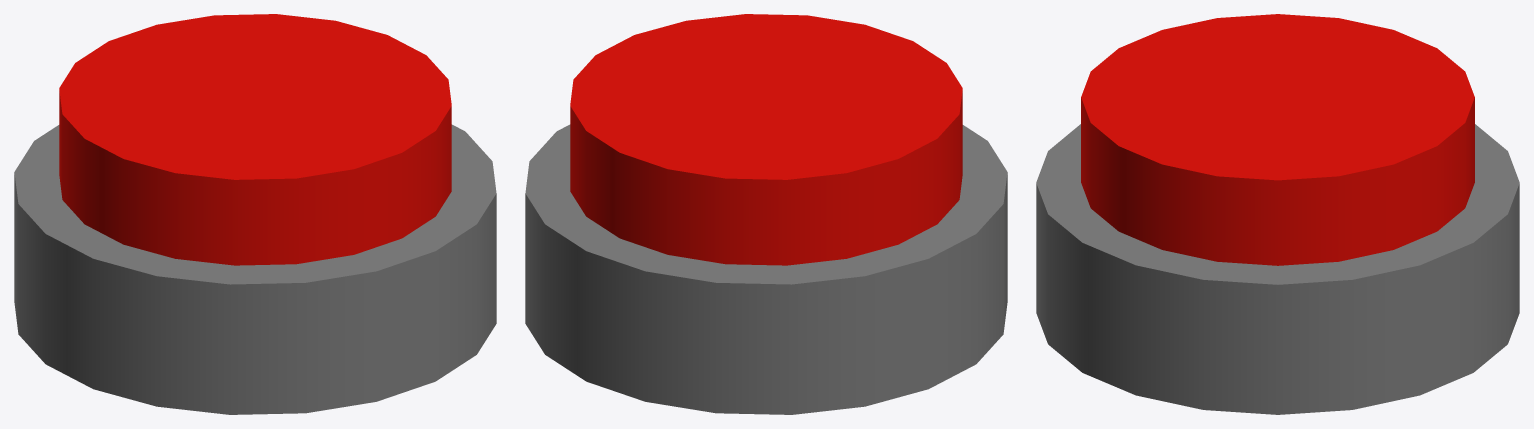
Rendered from Button.fbx.
3 views of the same model, side by side, from view 1: azimuth 30°, elevation 25°; view 2: azimuth 150°, elevation 25°; view 3: azimuth 270°, elevation 25° (orthographic).
Visible parts, largest first — view 1: Clicker, Base; view 2: Clicker, Base; view 3: Clicker, Base.
Boxes of the visible parts, bbox=[...] form: Clicker: bbox=[59, 14, 451, 265]; Base: bbox=[14, 124, 496, 414]; Clicker: bbox=[570, 14, 962, 265]; Base: bbox=[525, 124, 1007, 414]; Clicker: bbox=[1081, 14, 1474, 265]; Base: bbox=[1036, 124, 1519, 414].
Bounding box in the file's own units: 7.01 × 3.45 × 7.01.
